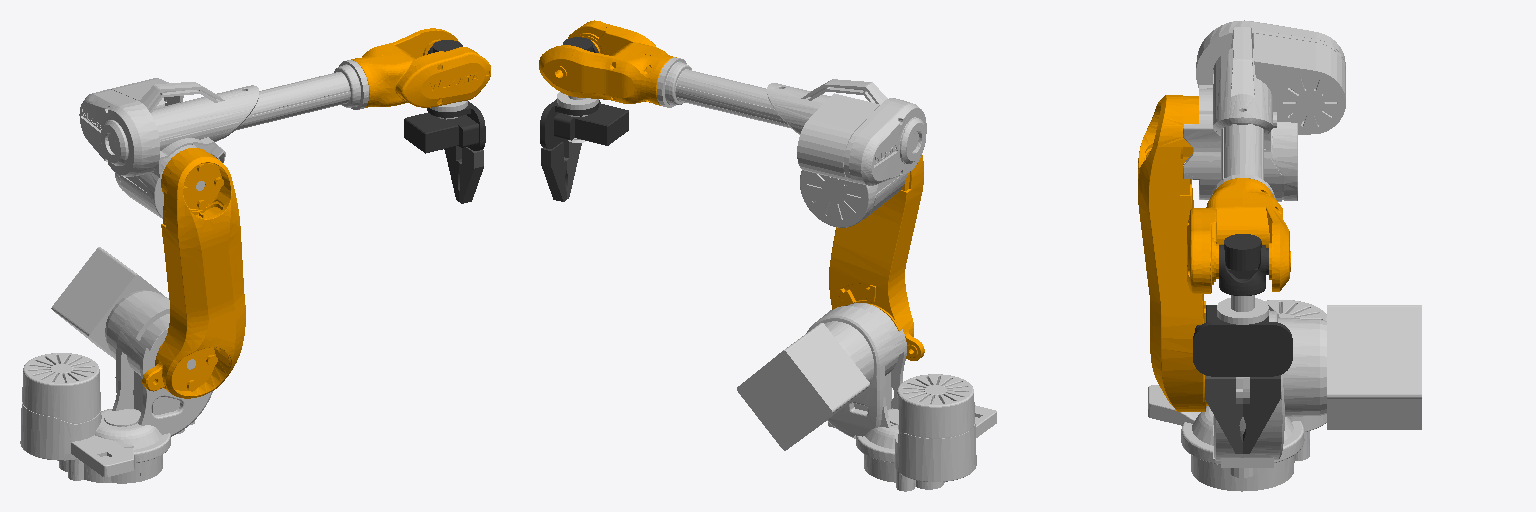
The robot description file, URDF, robot "mirobot_urdf":
<?xml version="1.0" encoding="utf-8"?>
<!-- =================================================================================== -->
<!-- |    This document was autogenerated by xacro from mirobot_urdf_2.xacro           | -->
<!-- |    EDITING THIS FILE BY HAND IS NOT RECOMMENDED                                 | -->
<!-- =================================================================================== -->
<!-- This URDF was automatically created by SolidWorks to URDF Exporter! Originally created by [author] ([email redacted]) 
     Commit Version: 1.5.1-0-g916b5db  Build Version: 1.5.7152.31018
     For more information, please see http://wiki.ros.org/sw_urdf_exporter -->
<robot name="mirobot_urdf">
  <link name="base_link">
    <visual>
      <origin rpy="0 0 0" xyz="0 0 0"/>
      <geometry>
        <mesh filename="assets/urdf/mirobot_description/meshes/base_link.dae"/>
      </geometry>
      <material name="base_link_color">
        <color rgba="0.44 0.5 0.56 1"/>
      </material>
    </visual>
    <collision>
      <origin rpy="0 0 0" xyz="0 0 0"/>
      <geometry>
        <mesh filename="assets/urdf/mirobot_description/meshes/base_link.obj"/>
      </geometry>
    </collision>
  </link>
  <link name="Link1">
    <visual>
      <origin rpy="0 0 0" xyz="0 0 0"/>
      <geometry>
        <mesh filename="assets/urdf/mirobot_description/meshes/Link1.dae"/>
      </geometry>
      <material name="Link1_color">
        <color rgba="0.83 0.83 0.83 1"/>
      </material>
    </visual>
    <collision>
      <origin rpy="0 0 0" xyz="0 0 0"/>
      <geometry>
        <mesh filename="assets/urdf/mirobot_description/meshes/Link1.obj"/>
      </geometry>
    </collision>
  </link>
  <joint name="joint1" type="revolute">
    <origin rpy="0 0 0" xyz="0 0 0.065406"/>
    <parent link="base_link"/>
    <child link="Link1"/>
    <axis xyz="0 0 1"/>
    <limit effort="80" lower="-1.7453" upper="1.7453" velocity="1.1344"/>
  </joint>
  <link name="Link2">
    <visual>
      <origin rpy="0 0 0" xyz="0 0 0"/>
      <geometry>
        <mesh filename="assets/urdf/mirobot_description/meshes/Link2.dae"/>
      </geometry>
      <material name="Link2_color">
        <color rgba="1 0.65 0 1"/>
      </material>
    </visual>
    <collision>
      <origin rpy="0 0 0" xyz="0 0 0"/>
      <geometry>
        <mesh filename="assets/urdf/mirobot_description/meshes/Link2.obj"/>
      </geometry>
    </collision>
  </link>
  <joint name="joint2" type="revolute">
    <origin rpy="3.1402 -1.5708 1.5722" xyz="0.029687 -0.022 0.061593"/>
    <parent link="Link1"/>
    <child link="Link2"/>
    <axis xyz="0 0 1"/>
    <limit effort="50" lower="-1.0471" upper="1.5707" velocity="1.1344"/>
  </joint>
  <link name="Link3">
    <visual>
      <origin rpy="0 0 0" xyz="0 0 0"/>
      <geometry>
        <mesh filename="assets/urdf/mirobot_description/meshes/Link3.dae"/>
      </geometry>
      <material name="Link3_color">
        <color rgba="0.83 0.83 0.83 1"/>
      </material>
    </visual>
    <collision>
      <origin rpy="0 0 0" xyz="0 0 0"/>
      <geometry>
        <mesh filename="assets/urdf/mirobot_description/meshes/Link3.obj"/>
      </geometry>
    </collision>
  </link>
  <joint name="joint3" type="revolute">
    <origin rpy="0 0 0" xyz="0.108 0 -0.0094471"/>
    <parent link="Link2"/>
    <child link="Link3"/>
    <axis xyz="0 0 1"/>
    <limit effort="10" lower="-3.1415" upper="0.8726" velocity="0.4886"/>
  </joint>
  <link name="Link4">
    <visual>
      <origin rpy="0 0 0" xyz="0 0 0"/>
      <geometry>
        <mesh filename="assets/urdf/mirobot_description/meshes/Link4.dae"/>
      </geometry>
      <material name="Link4_color">
        <color rgba="1 0.65 0 1"/>
      </material>
    </visual>
    <collision>
      <origin rpy="0 0 0" xyz="0 0 0"/>
      <geometry>
        <mesh filename="assets/urdf/mirobot_description/meshes/Link4.obj"/>
      </geometry>
    </collision>
  </link>
  <joint name="joint4" type="revolute">
    <origin rpy="-1.5708 0 0" xyz="0.020001 0.10743 0.031439"/>
    <parent link="Link3"/>
    <child link="Link4"/>
    <axis xyz="0 0 1"/>
    <limit effort="10" lower="-3.1415" upper="3.1415" velocity="1.9198"/>
  </joint>

  <link name="Link5">
    <visual>
      <origin rpy="0 0 0" xyz="0 0 0"/>
      <geometry>
        <mesh filename="assets/urdf/mirobot_description/meshes/Link5_align.dae"/>
      </geometry>
    </visual>
    <collision>
      <!-- Following offset is required to avoid the problem that the joint doesn't move in IsaacGym. -->
      <!-- It seems a collision bug of pouring_water because this URDF model works well in ROS rviz. -->
      <origin rpy="0 0 0" xyz="-0.04 0 0"/>
      <geometry>
        <mesh filename="assets/urdf/mirobot_description/meshes/Link5_align.obj"/>
      </geometry>
    </collision>
  </link>
  <joint name="joint5" type="revolute">
    <!-- <origin rpy="1.5708 -1.5708 -3.1416" xyz="0 -0.010414 0.06155"/> -->
    <origin rpy="1.5708 -1.5708 -3.1416" xyz="0 0.0 0.06155"/>
    <parent link="Link4"/>
    <child link="Link5"/>
    <axis xyz="0 0 -1"/>
    <limit effort="10" lower="-3.14" upper="0.698" velocity="0.5759"/>
  </joint>

  <link name="Link6">
    <visual>
      <origin rpy="0 0 0" xyz="0 0 0"/>
      <geometry>
        <mesh filename="assets/urdf/mirobot_description/meshes/Link6.dae"/>
      </geometry>
      <material name="Link6_color">
        <color rgba="0.83 0.83 0.83 1"/>
      </material>
    </visual>
    <collision>
      <!-- Following offset is required to avoid the problem that the joint doesn't move in IsaacGym. -->
      <!-- It seems a collision bug of pouring_water because this URDF model works well in ROS rviz. -->
      <origin rpy="0 0 0" xyz="-0.04 0 0"/>
      <geometry>
        <mesh filename="assets/urdf/mirobot_description/meshes/Link6.obj"/>
      </geometry>
    </collision>
  </link>
  <joint name="joint6" type="revolute">
    <!-- <origin rpy="-1.5708 0 0" xyz="0 -0.01628 0.010525"/> -->
    <origin rpy="-1.5708 0 0" xyz="0 -0.01628 0"/>
    <parent link="Link5"/>
    <child link="Link6"/>
    <axis xyz="0 0 1"/>
    <limit effort="15" lower="-3.1415" upper="3.1415" velocity="1.1519"/>
  </joint>

  <link name="mirobot_hand">
    <visual>
      <geometry>
        <mesh filename="assets/urdf/mirobot_description/meshes/mirobot_hand.dae"/>
      </geometry>
    </visual>
    <collision>
      <geometry>
        <mesh filename="assets/urdf/mirobot_description/meshes/mirobot_hand.obj"/>
      </geometry>
    </collision>
  </link>
  <joint name="mirobot_hand_joint" type="fixed">
    <parent link="Link6"/>
    <child link="mirobot_hand"/>
    <origin rpy="3.1415 0 0" xyz="0 0 -0.008"/>
  </joint>

  <link name="left_finger">
    <visual>
      <geometry>
        <mesh filename="assets/urdf/mirobot_description/meshes/mirobot_leftfinger.dae"/>
      </geometry>
    </visual>
    <collision>
      <geometry>
        <mesh filename="assets/urdf/mirobot_description/meshes/mirobot_leftfinger.obj"/>
      </geometry>
    </collision>
  </link>
  <link name="right_finger">
    <visual>
      <geometry>
        <mesh filename="assets/urdf/mirobot_description/meshes/mirobot_rightfinger.dae"/>
      </geometry>
    </visual>
    <collision>
      <geometry>
        <mesh filename="assets/urdf/mirobot_description/meshes/mirobot_rightfinger.obj"/>
      </geometry>
    </collision>
  </link>
  <joint name="right_finger_joint" type="prismatic">
    <parent link="mirobot_hand"/>
    <child link="right_finger"/>
    <origin rpy="0 0 0" xyz="0.01 0 0.024"/>
    <axis xyz="0 1 0"/>
    <dynamics damping="10.0"/>
    <limit effort="20" lower="0.0" upper="0.0175" velocity="0.2"/>
  </joint>
  <joint name="left_finger_joint" type="prismatic">
    <parent link="mirobot_hand"/>
    <child link="left_finger"/>
    <origin rpy="0 0 0" xyz="0.01 0 0.024"/>
    <axis xyz="0 -1 0"/>
    <dynamics damping="10.0"/>
    <limit effort="20" lower="0.0" upper="0.0175" velocity="0.2"/>
    <mimic joint="left_finger_joint"/>
  </joint>
</robot>

--- Render facts (derived) ---
Views: 3 orthographic renders of the robot side by side, from view 1: azimuth 30°, elevation 25°; view 2: azimuth 150°, elevation 25°; view 3: azimuth 270°, elevation 25°.
Model mirobot_urdf with 10 links and 9 joints (6 revolute, 2 prismatic, 1 fixed), rooted at base_link, posed every joint at zero.
Visible links, largest first — view 1: Link1, Link2, Link3, Link4, mirobot_hand, right_finger, left_finger; view 2: Link1, Link3, Link2, Link4, mirobot_hand, left_finger, right_finger, Link6; view 3: Link1, Link3, Link2, Link4, mirobot_hand, Link5, right_finger, left_finger, Link6.
Link boxes in pixels (<box>): Link1: <box>20,247,212,483</box>; Link2: <box>142,148,245,398</box>; Link3: <box>79,60,368,218</box>; Link4: <box>351,28,490,107</box>; mirobot_hand: <box>404,101,485,153</box>; right_finger: <box>459,147,483,203</box>; left_finger: <box>444,146,461,201</box>; Link1: <box>737,303,996,491</box>; Link3: <box>657,57,926,227</box>; Link2: <box>829,155,924,360</box>; Link4: <box>539,20,676,105</box>; mirobot_hand: <box>540,99,628,148</box>; left_finger: <box>541,142,566,201</box>; right_finger: <box>562,139,581,198</box>; Link6: <box>557,92,598,142</box>; Link1: <box>1148,300,1421,491</box>; Link3: <box>1183,20,1345,201</box>; Link2: <box>1138,95,1208,411</box>; Link4: <box>1187,178,1290,293</box>; mirobot_hand: <box>1193,305,1292,376</box>; Link5: <box>1219,234,1268,295</box>; right_finger: <box>1205,375,1242,453</box>; left_finger: <box>1243,375,1280,453</box>; Link6: <box>1217,295,1268,324</box>.
Bounding box of the posed robot: 0.2628 × 0.1198 × 0.216 m (x, y, z).
Meshes: 10 distinct files referenced, 9 mesh visuals loaded (9 Collada DAE); not drawn: 1 (reference not matched to a file when rendering).